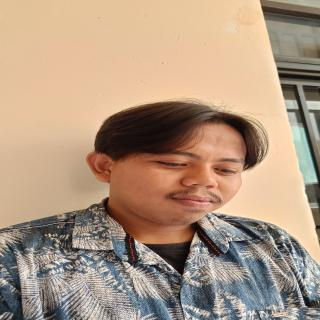Sedih: (108, 120, 250, 228)
